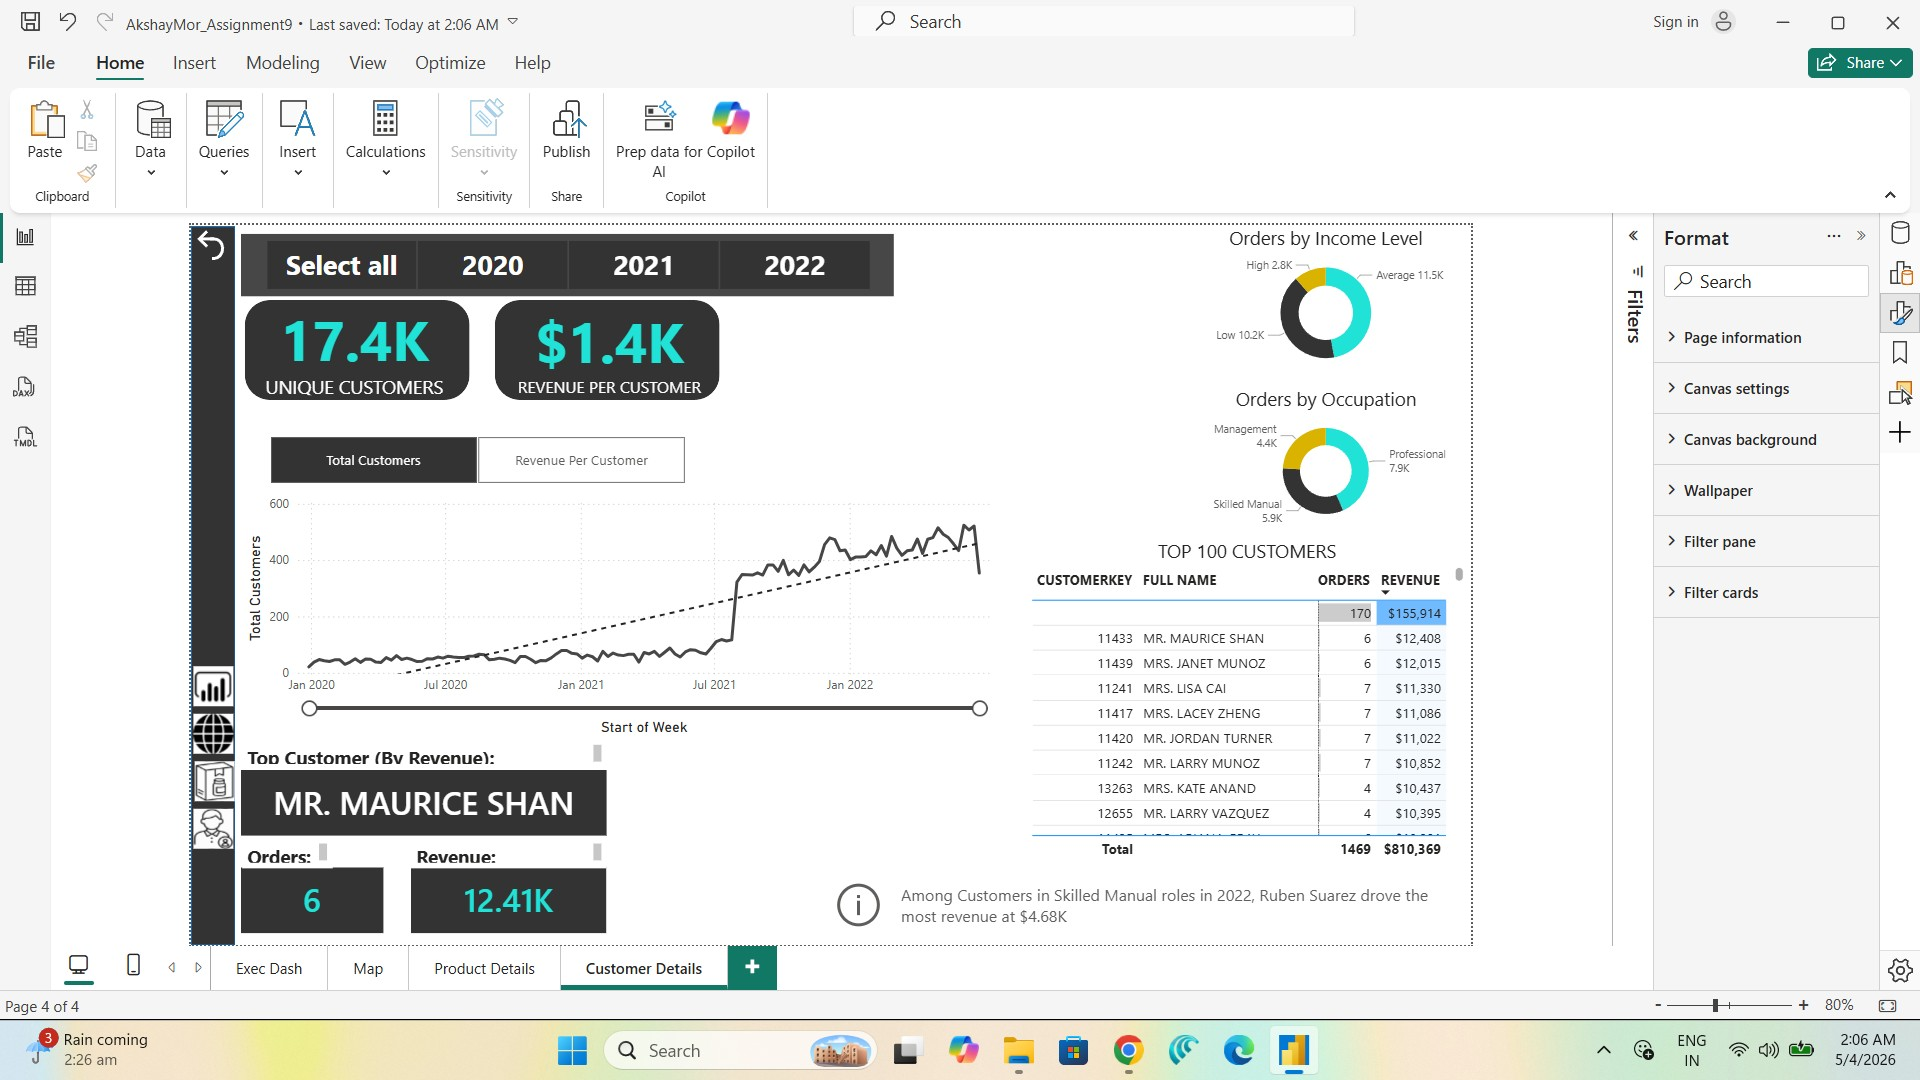

The dashboard page shown, as its layout file describes it:
{"tool":"powerbi","page":{"name":"Customer Details","canvas":[1280,720],"ordinal":3},"visuals":[{"type":"shape","box":[303.9,74.9,225,100],"z":0,"group":"g1"},{"type":"actionButton","box":[0,441.9,45,40],"z":0,"group":"g2"},{"type":"card","fields":{"Values":["Table Measure.Full Name (Customer Detail)"]},"box":[50.2,544.7,365.7,65.6],"z":0},{"type":"shape","box":[53.5,74.9,225,100],"z":1000,"group":"g1"},{"type":"group","id":"g1","title":"KPI Cards","box":[53.5,74.9,475.4,100],"z":1000},{"type":"actionButton","box":[1.4,537.1,45,40],"z":1000,"group":"g2"},{"type":"card","fields":{"Values":["Table Measure.Average Revenue Per Customer"]},"box":[309.1,74.9,219.8,100],"z":2000},{"type":"actionButton","box":[0,584.8,45,40],"z":2000,"group":"g2"},{"type":"actionButton","box":[0,489.5,45,40],"z":3000,"group":"g2"},{"type":"textbox","box":[51.7,515.4,364.3,29.3],"z":3000},{"type":"card","fields":{"Values":["Table Measure.Total Customers"]},"box":[53.9,74.9,219.8,100],"z":4000},{"type":"lineChart","title":"CUSTOMER TRENDS","fields":{"Category":["Calendar Lookup.Start of Year","Calendar Lookup.Start of Quarter","Calendar Lookup.Start of Month","Calendar Lookup.Start of Week"],"Y":["Table Measure.Average Revenue Per Customer"]},"box":[51.2,265,766.2,250],"z":5000},{"type":"card","fields":{"Values":["Table Measure.Total Orders (Customer Detail)"]},"box":[50.2,642.6,142.1,65.6],"z":6000},{"type":"donutChart","title":"Orders by Income Level","fields":{"Category":["Customer Lookup.Income Level"],"Y":["Table Measure.Total Orders"]},"box":[992.5,0,285,151.2],"z":7000},{"type":"card","fields":{"Values":["Table Measure.Total Revenue (Customer Detail)"]},"box":[220.4,642.6,195.5,65.6],"z":8000},{"type":"textbox","box":[51.7,613.3,90,29.3],"z":9000},{"type":"donutChart","title":"Orders by Occupation","fields":{"Category":["Customer Lookup.Occupation"],"Y":["Table Measure.Total Orders"]},"box":[992.9,161.2,285,145],"z":10000},{"type":"textbox","box":[220.4,613.3,195.5,29.3],"z":11000},{"type":"tableEx","title":"TOP 100 CUSTOMERS","fields":{"Values":["Customer Lookup.CustomerKey","Customer Lookup.Full Name","Table Measure.Total Orders","Table Measure.Total Revenue"]},"box":[835.4,312.4,442.5,327.5],"z":12000},{"type":"slicer","fields":{"Values":["Calendar Lookup.Year"]},"box":[50.3,8.8,652.5,62.5],"z":13000},{"type":"actionButton","box":[640,652.5,625,55],"z":14000},{"type":"shape","box":[0,1.4,44.3,719],"z":15000},{"type":"actionButton","box":[0,0,44.3,40],"z":16000},{"type":"group","id":"g2","title":"Navigation Buttons","box":[0,441.9,46.4,182.9],"z":17000},{"type":"slicer","fields":{"Values":["Customer Metric Solution.Customer Metric Solution"]},"box":[53.8,205,463.8,60],"z":17001}]}

Visuals, with their boxes on the page's 1280x720 design canvas (x1, y1, x2, y2). These are canvas units, not pixel positions in the 1920x1080 screenshot, which may show the page scaled, cropped or inside an application window:
shape: [x1=304, y1=75, x2=529, y2=175]
actionButton: [x1=0, y1=442, x2=45, y2=482]
card - Table Measure.Full Name (Customer Detail): [x1=50, y1=545, x2=416, y2=610]
shape: [x1=54, y1=75, x2=278, y2=175]
"KPI Cards" group: [x1=54, y1=75, x2=529, y2=175]
actionButton: [x1=1, y1=537, x2=46, y2=577]
card - Table Measure.Average Revenue Per Customer: [x1=309, y1=75, x2=529, y2=175]
actionButton: [x1=0, y1=585, x2=45, y2=625]
actionButton: [x1=0, y1=490, x2=45, y2=530]
textbox: [x1=52, y1=515, x2=416, y2=545]
card - Table Measure.Total Customers: [x1=54, y1=75, x2=274, y2=175]
"CUSTOMER TRENDS" lineChart: [x1=51, y1=265, x2=817, y2=515]
card - Table Measure.Total Orders (Customer Detail): [x1=50, y1=643, x2=192, y2=708]
"Orders by Income Level" donutChart: [x1=992, y1=0, x2=1278, y2=151]
card - Table Measure.Total Revenue (Customer Detail): [x1=220, y1=643, x2=416, y2=708]
textbox: [x1=52, y1=613, x2=142, y2=643]
"Orders by Occupation" donutChart: [x1=993, y1=161, x2=1278, y2=306]
textbox: [x1=220, y1=613, x2=416, y2=643]
"TOP 100 CUSTOMERS" tableEx: [x1=835, y1=312, x2=1278, y2=640]
slicer - Calendar Lookup.Year: [x1=50, y1=9, x2=703, y2=71]
actionButton: [x1=640, y1=652, x2=1265, y2=708]
shape: [x1=0, y1=1, x2=44, y2=720]
actionButton: [x1=0, y1=0, x2=44, y2=40]
"Navigation Buttons" group: [x1=0, y1=442, x2=46, y2=625]
slicer - Customer Metric Solution.Customer Metric Solution: [x1=54, y1=205, x2=518, y2=265]
